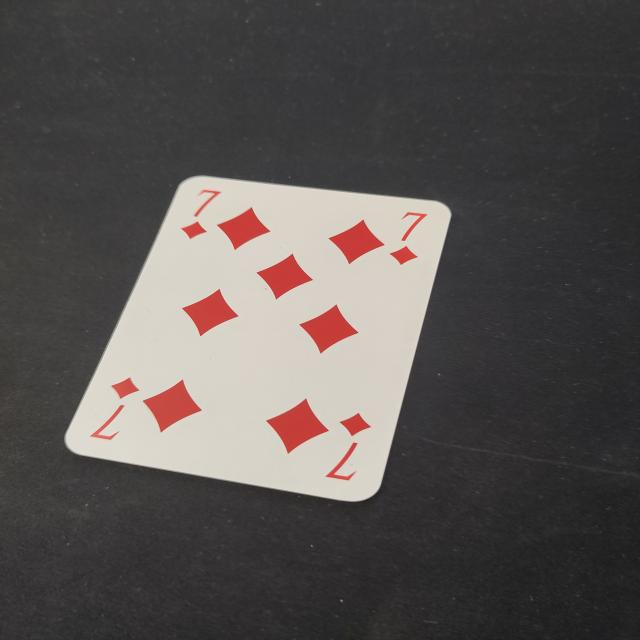7d: (74, 372, 155, 448), (321, 398, 378, 488), (382, 206, 438, 273), (178, 182, 226, 244)
